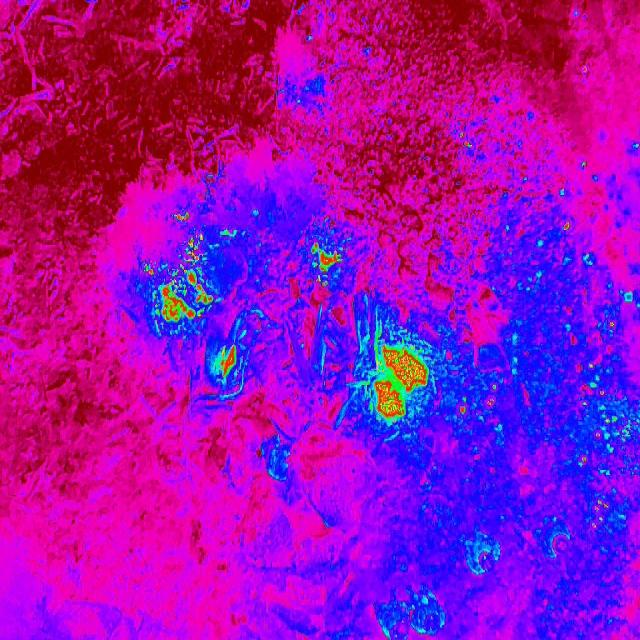fire: (528, 197, 640, 545), (140, 230, 217, 336), (363, 326, 431, 429), (451, 388, 504, 422), (311, 237, 345, 286), (208, 338, 241, 384), (452, 128, 478, 154), (169, 206, 193, 226)
